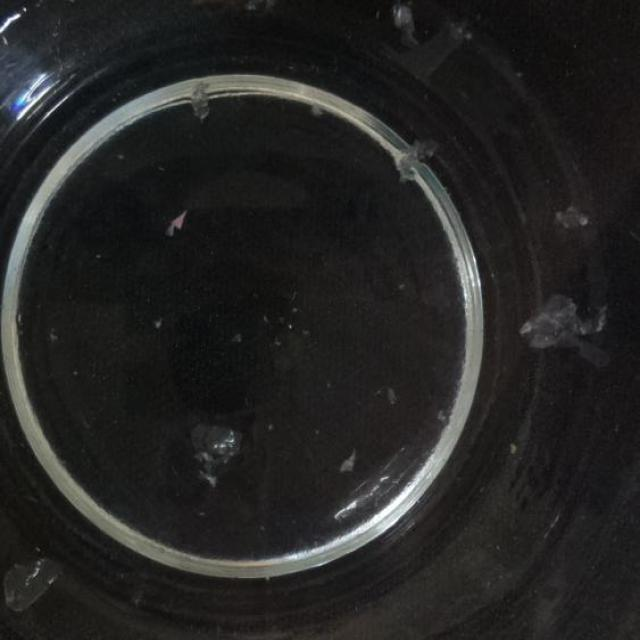fiber: (524, 290, 610, 366), (190, 417, 242, 485), (5, 556, 61, 612), (396, 141, 444, 185), (186, 81, 218, 122), (554, 199, 596, 229), (390, 1, 418, 40), (168, 211, 188, 234), (384, 384, 402, 409), (307, 97, 328, 118), (229, 326, 249, 347), (43, 327, 63, 347), (339, 457, 360, 472), (152, 317, 167, 331), (510, 438, 520, 458), (440, 410, 449, 428)
